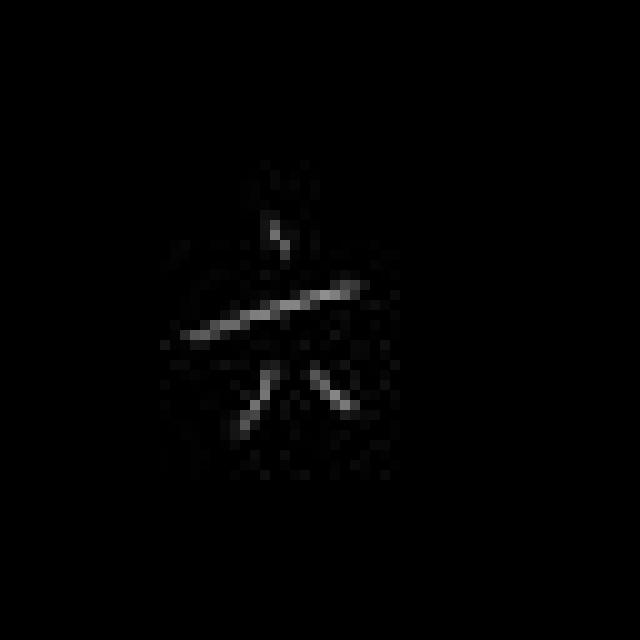6 -six-: (174, 212, 380, 442)
